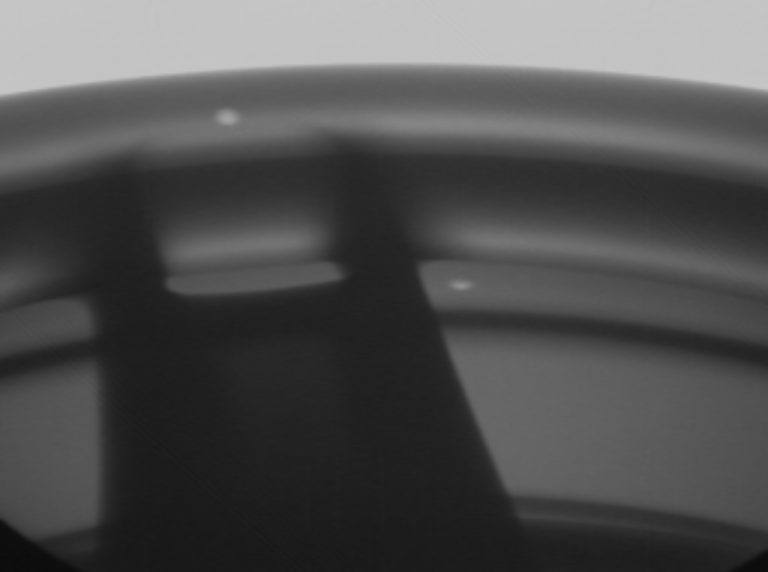defect: (438, 268, 492, 299)
